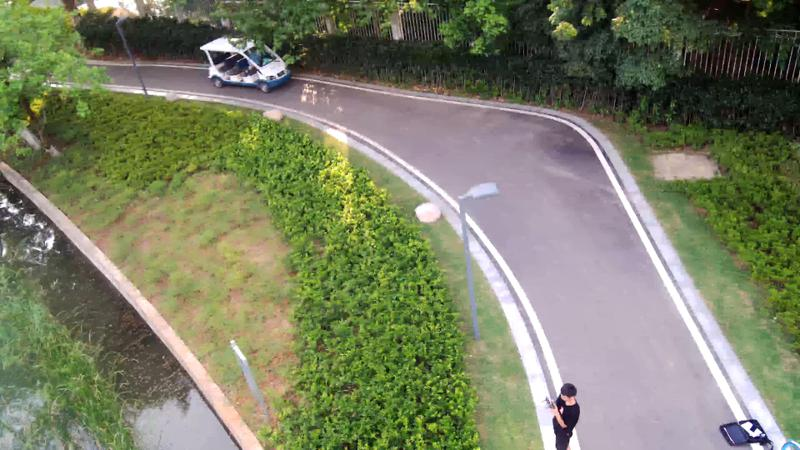passerby: (544, 381, 582, 450)
